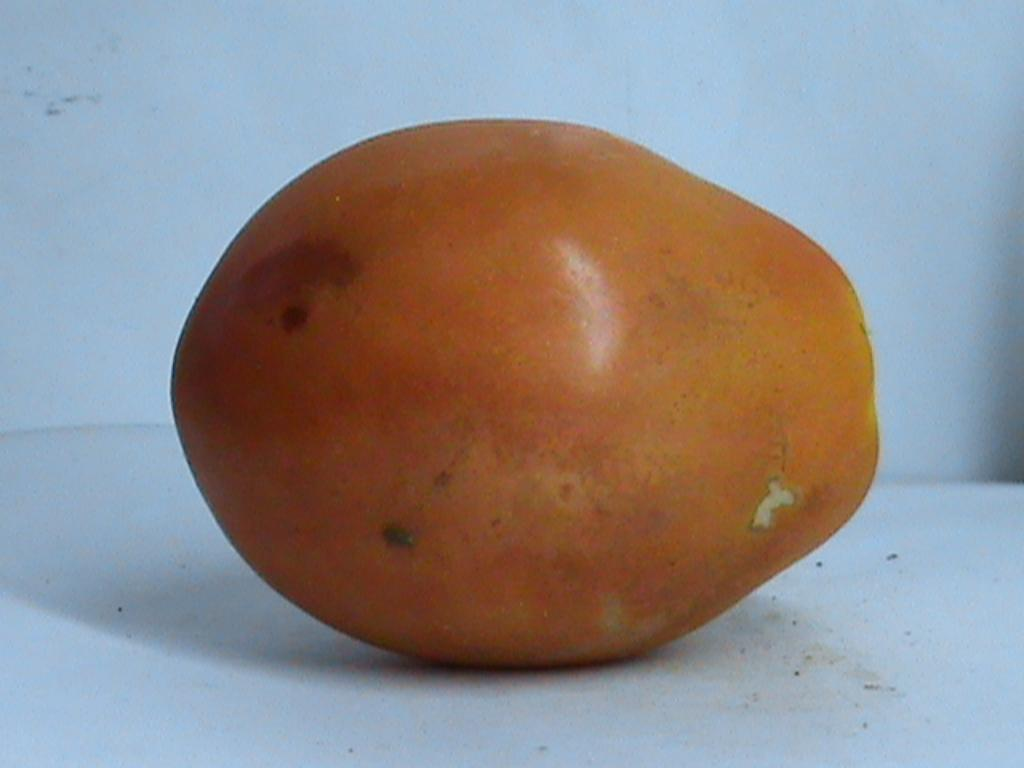bruise_discoloration: (414, 415, 688, 586)
rot_mold_decay: (242, 235, 362, 331)
surface_damage: (750, 478, 795, 528)
tomato: (173, 120, 877, 662)
